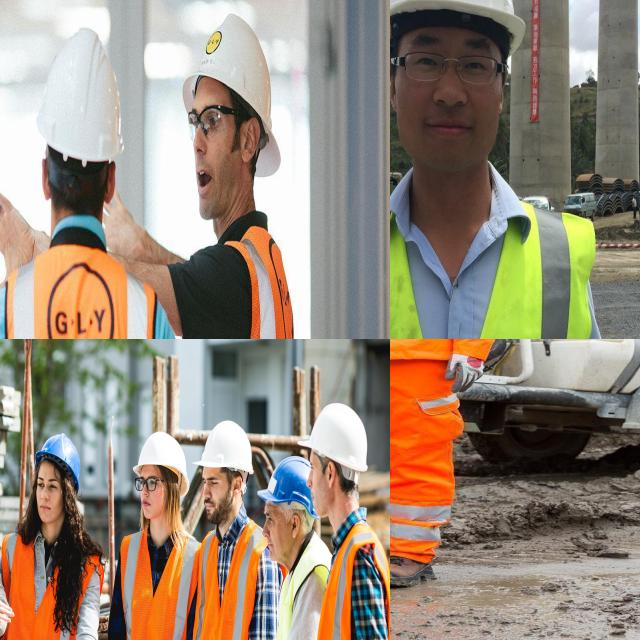No_Ear-Protection: (241, 112, 262, 168), (102, 157, 120, 208), (39, 152, 54, 202), (230, 474, 247, 499), (325, 460, 338, 490), (288, 512, 302, 539)
No_Glasses: (33, 472, 63, 494), (199, 472, 227, 491), (263, 506, 281, 528), (308, 455, 320, 479)
face_nomask: (398, 23, 514, 152), (180, 82, 238, 219), (300, 450, 340, 514), (258, 500, 296, 564), (199, 467, 236, 526), (30, 461, 65, 522), (135, 462, 169, 516)
glasses: (400, 46, 504, 92), (184, 103, 228, 147), (133, 475, 160, 495)
hand_glove: (443, 347, 501, 397)
hand_noglove: (0, 172, 45, 294), (100, 190, 156, 253), (0, 570, 18, 639)
head_helmet: (184, 9, 288, 170), (38, 22, 130, 166), (390, 0, 526, 42), (297, 402, 368, 473), (133, 431, 190, 495), (193, 420, 254, 474), (34, 432, 81, 492), (257, 456, 310, 508)
person: (390, 0, 636, 339), (0, 7, 170, 339), (168, 5, 302, 339), (390, 339, 504, 588), (1, 426, 97, 640), (306, 403, 390, 640), (106, 430, 191, 640), (192, 426, 264, 640), (261, 460, 314, 640), (629, 192, 640, 216)
shoes: (390, 549, 441, 586)
vest: (390, 207, 577, 339), (3, 240, 164, 339), (171, 230, 296, 339), (301, 518, 390, 640), (0, 527, 84, 640), (194, 517, 262, 640), (127, 524, 199, 640), (273, 535, 333, 640)
